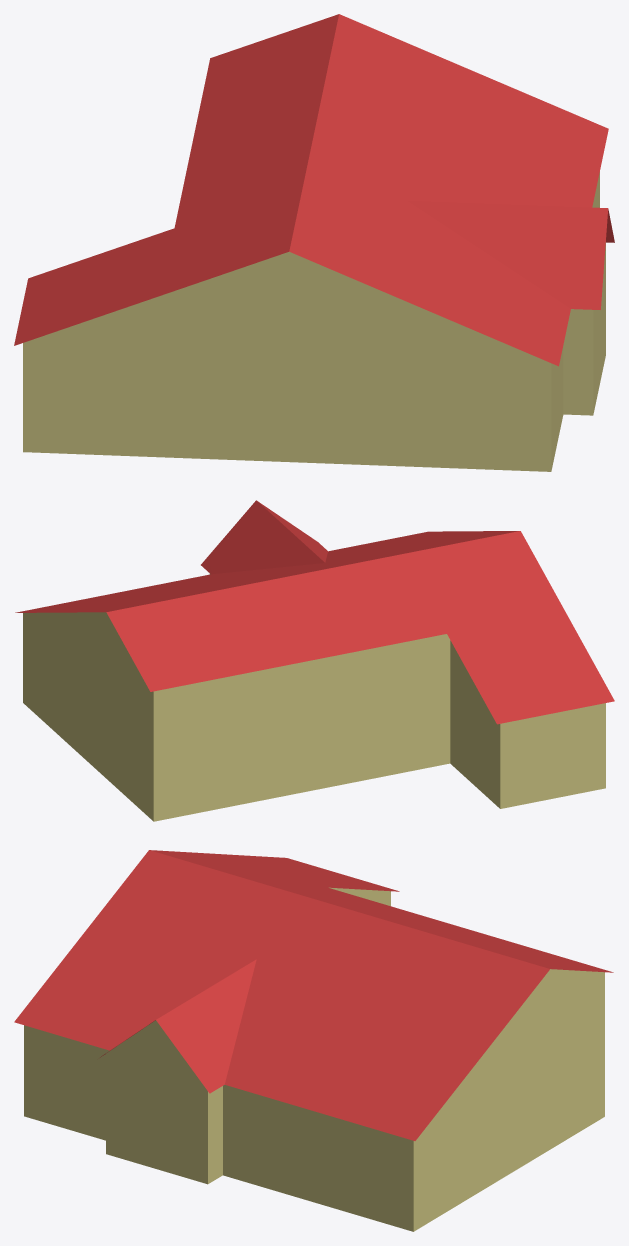
3 renders of one model, top to bottom at view 1: azimuth 30°, elevation 25°; view 2: azimuth 150°, elevation 25°; view 3: azimuth 270°, elevation 25°, orthographic. The views are drawn at different scales.
Size of the model in its own units: 46.48 by 41.66 by 14.21.
